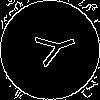Y: (25, 25, 80, 71)
